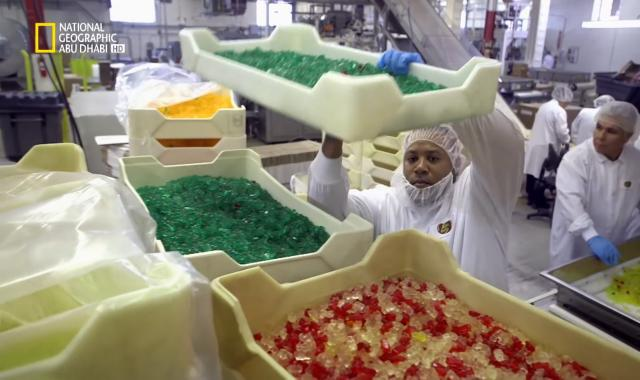hairnet: (399, 125, 464, 176), (598, 102, 640, 138), (553, 86, 575, 103)
